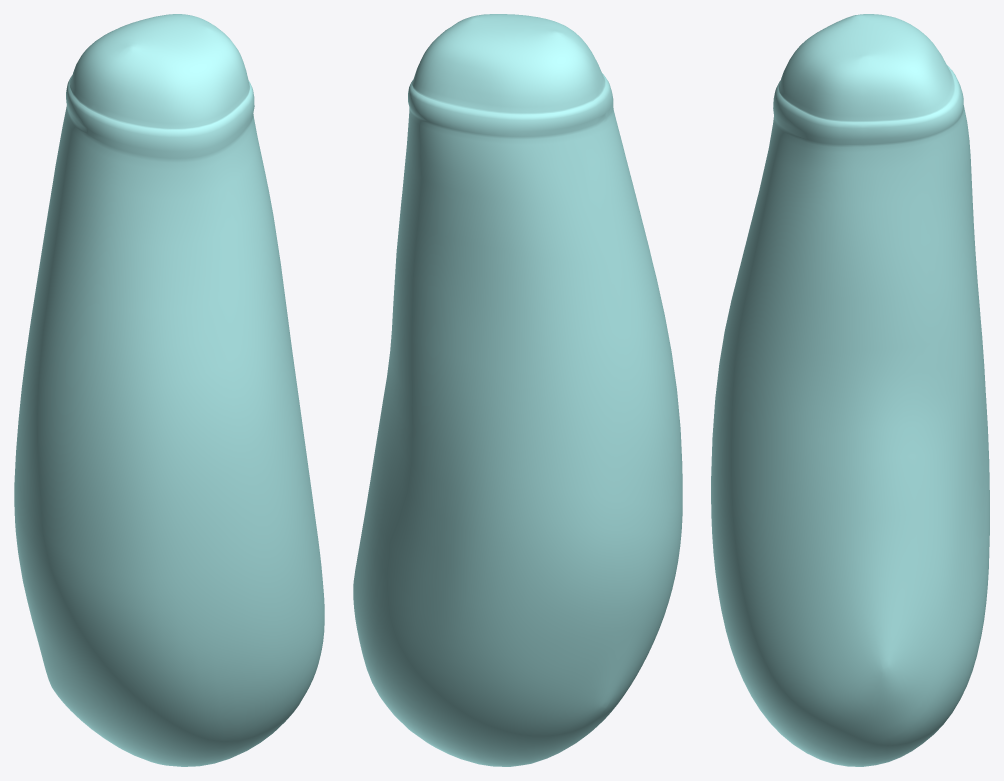
File: thigh_visual.dae
The picture shows the model from 3 angles, left to right: view 1: azimuth 30°, elevation 25°; view 2: azimuth 150°, elevation 25°; view 3: azimuth 270°, elevation 25°; orthographic projection. The views are drawn at different scales.
Visible parts, largest first — view 1: mesh 1 scenario_ZFS_Right_ThighTest-2.005; view 2: mesh 1 scenario_ZFS_Right_ThighTest-2.005; view 3: mesh 1 scenario_ZFS_Right_ThighTest-2.005.
Part boxes in pixels (x1,y1,x2,y2): mesh 1 scenario_ZFS_Right_ThighTest-2.005: (14,14,324,766); mesh 1 scenario_ZFS_Right_ThighTest-2.005: (353,14,682,766); mesh 1 scenario_ZFS_Right_ThighTest-2.005: (711,14,989,766).
Size of the model in its own units: 0.2285 by 0.1963 by 0.5521.
